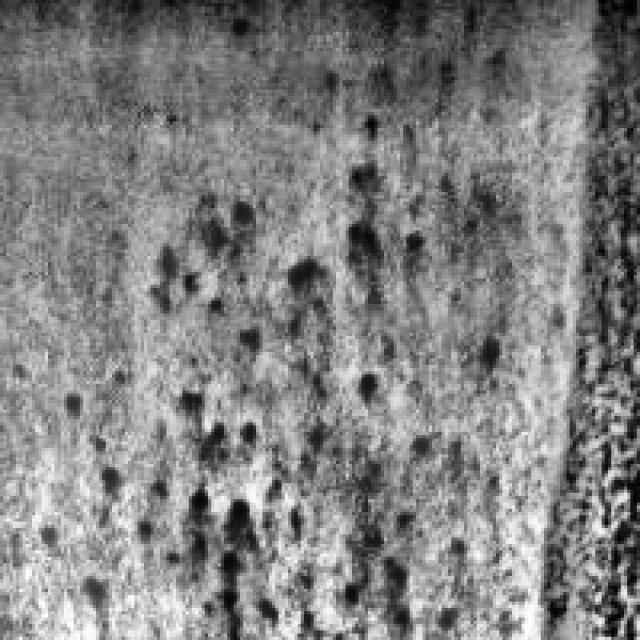Rolled_in_Scale: (74, 118, 468, 621), (544, 0, 633, 630)
